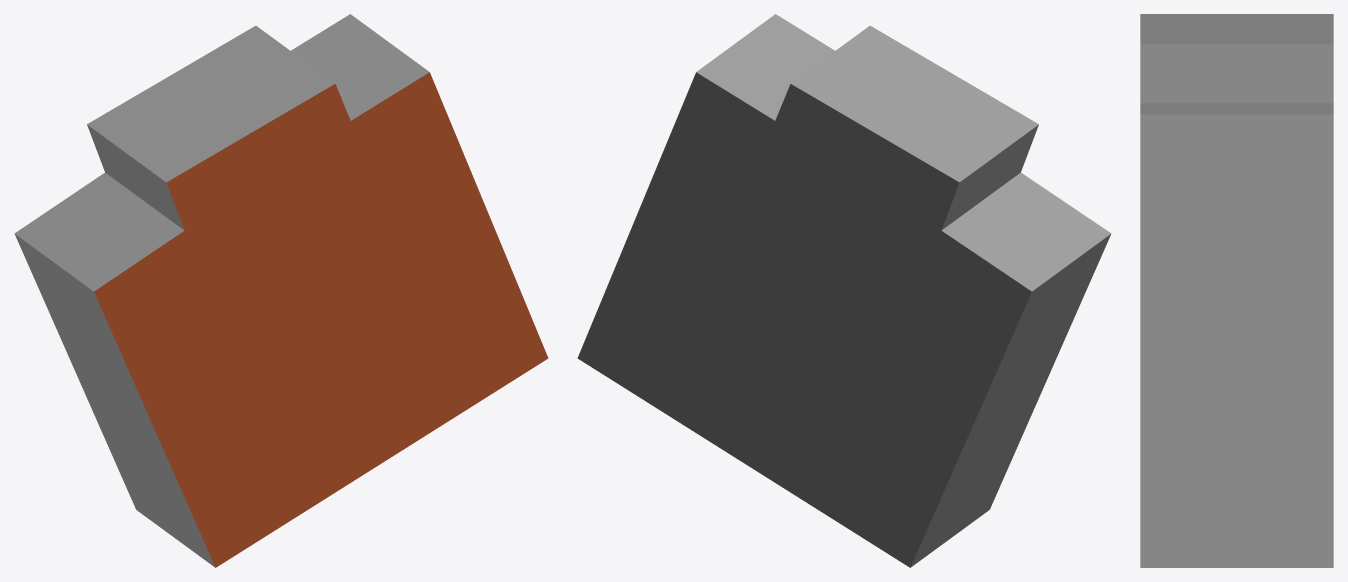
File: construction_4918_assumed_A_Casa_h6m.obj
The picture shows the model from 3 angles, left to right: view 1: azimuth 30°, elevation 25°; view 2: azimuth 150°, elevation 25°; view 3: azimuth 270°, elevation 25°; orthographic projection. The views are drawn at different scales.
Parts seen in each view (by area): view 1: construction_4918_assumed_A_Casa; view 2: construction_4918_assumed_A_Casa; view 3: construction_4918_assumed_A_Casa.
Boxes of the visible parts, bbox=[...] form: construction_4918_assumed_A_Casa: bbox=[14, 14, 548, 567]; construction_4918_assumed_A_Casa: bbox=[577, 14, 1111, 567]; construction_4918_assumed_A_Casa: bbox=[1140, 14, 1333, 567].
Bounding box in the file's own units: 19.81 × 18.95 × 6.
